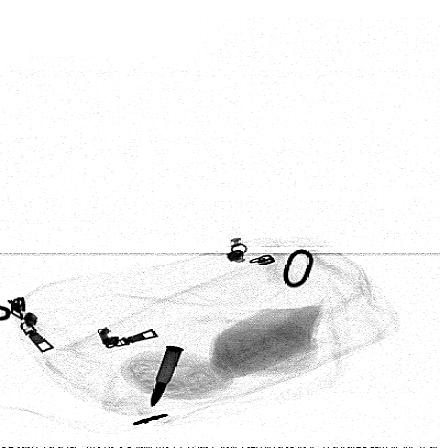Bullet: (150, 344, 186, 410)
